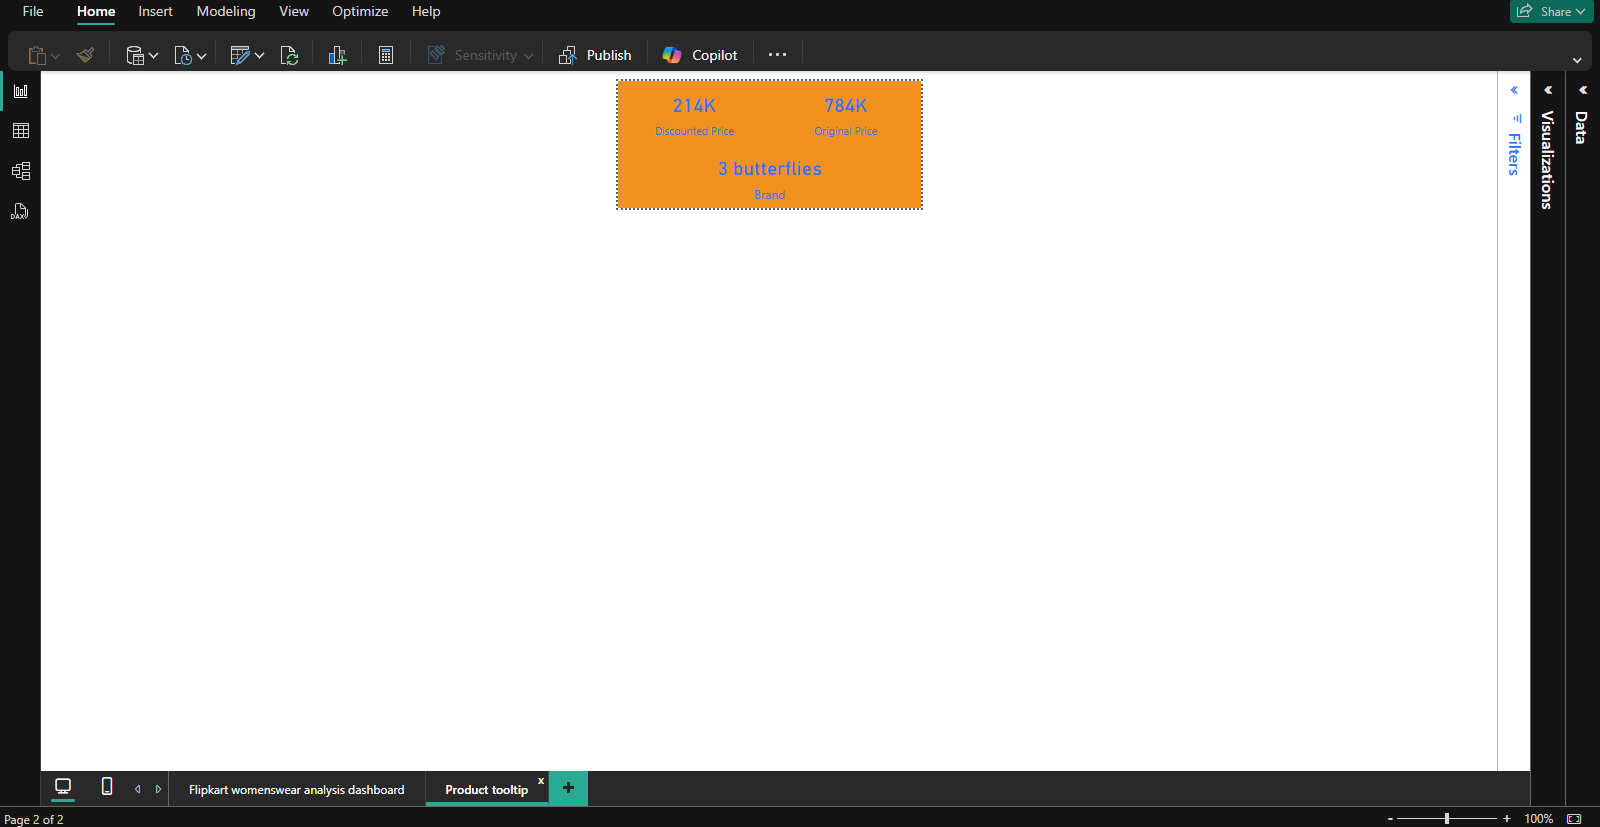

What the dashboard file says about the page in this screenshot:
{"tool":"powerbi","page":{"name":"Product tooltip","canvas":[303,127],"ordinal":1},"visuals":[{"type":"card","fields":{"Values":["Sum(Dresses.Discounter Price)"]},"box":[0,0,152,64],"z":0},{"type":"card","fields":{"Values":["Sum(Dresses.Original Price)"]},"box":[152,0,151,64],"z":1000},{"type":"card","fields":{"Values":["Min(Dresses.Brand Name)"]},"box":[0,64,303,63],"z":2000}]}

Visuals, with their boxes on the page's 303x127 design canvas (x1, y1, x2, y2). These are canvas units, not pixel positions in the 1600x827 screenshot, which may show the page scaled, cropped or inside an application window:
card - Sum(Dresses.Discounter Price): (0,0,152,64)
card - Sum(Dresses.Original Price): (152,0,303,64)
card - Min(Dresses.Brand Name): (0,64,303,127)
